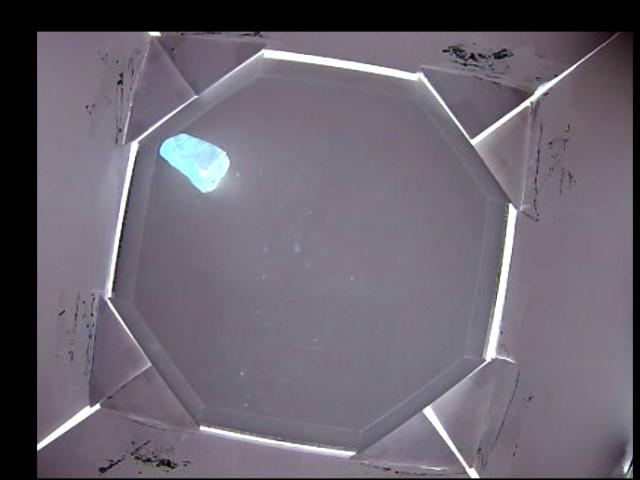Brisk: (157, 132, 228, 189)
